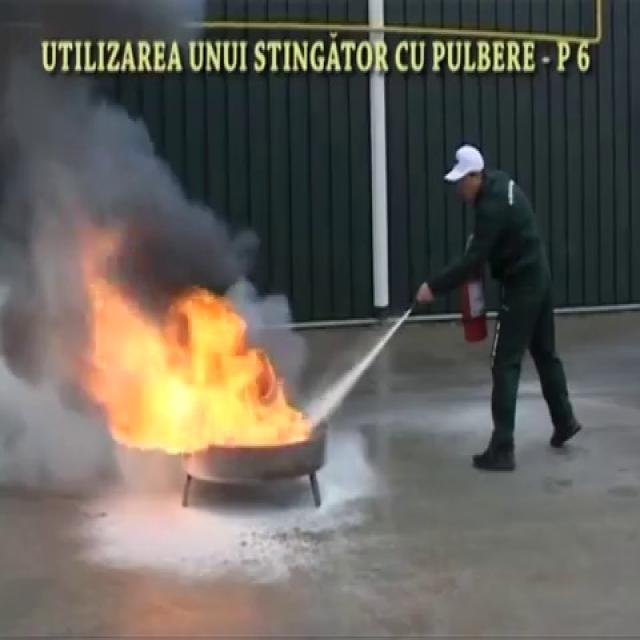Fire: (58, 264, 308, 463)
Smoke: (0, 1, 225, 307)
